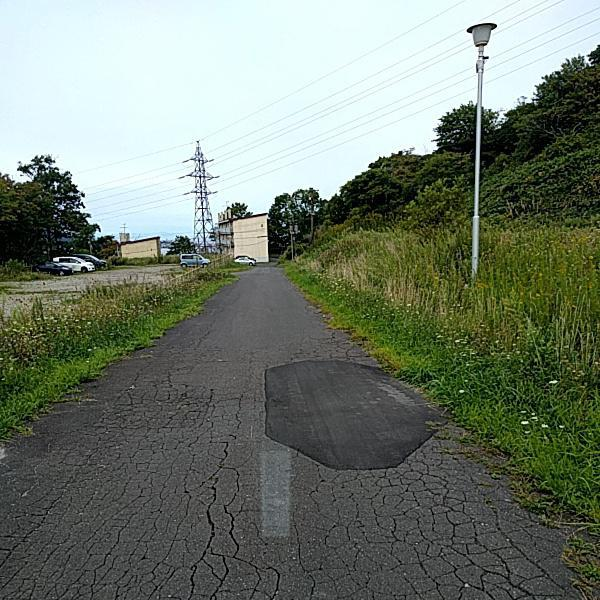D20: (0, 375, 583, 599)
